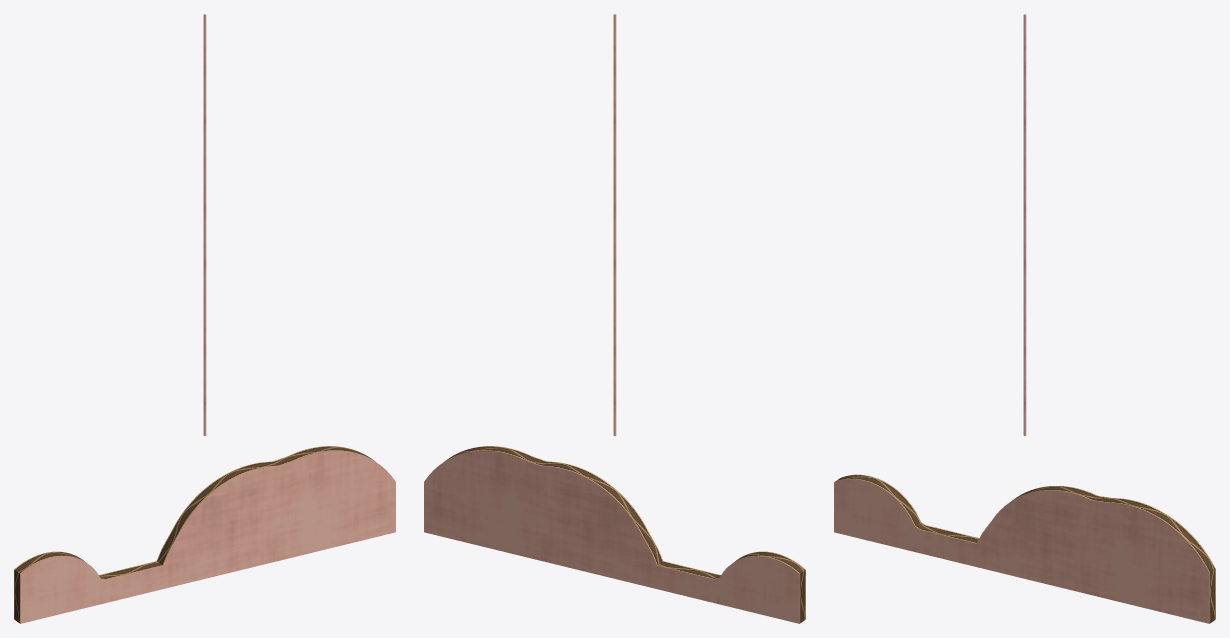
The model's file is cloud_cutout_01_evening.gltf.
3 renders of one model, left to right at view 1: azimuth 30°, elevation 25°; view 2: azimuth 150°, elevation 25°; view 3: azimuth 330°, elevation 25°, orthographic.
Parts seen in each view (by area): view 1: cloud_cutout_01_evening; view 2: cloud_cutout_01_evening; view 3: cloud_cutout_01_evening.
Boxes of the visible parts, <box> form: cloud_cutout_01_evening: <box>14,14,395,623</box>; cloud_cutout_01_evening: <box>424,14,805,623</box>; cloud_cutout_01_evening: <box>834,14,1215,623</box>.
Bounding box in the file's own units: 1.4 × 2 × 0.04.
Materials: 2 (2 with a texture image).
